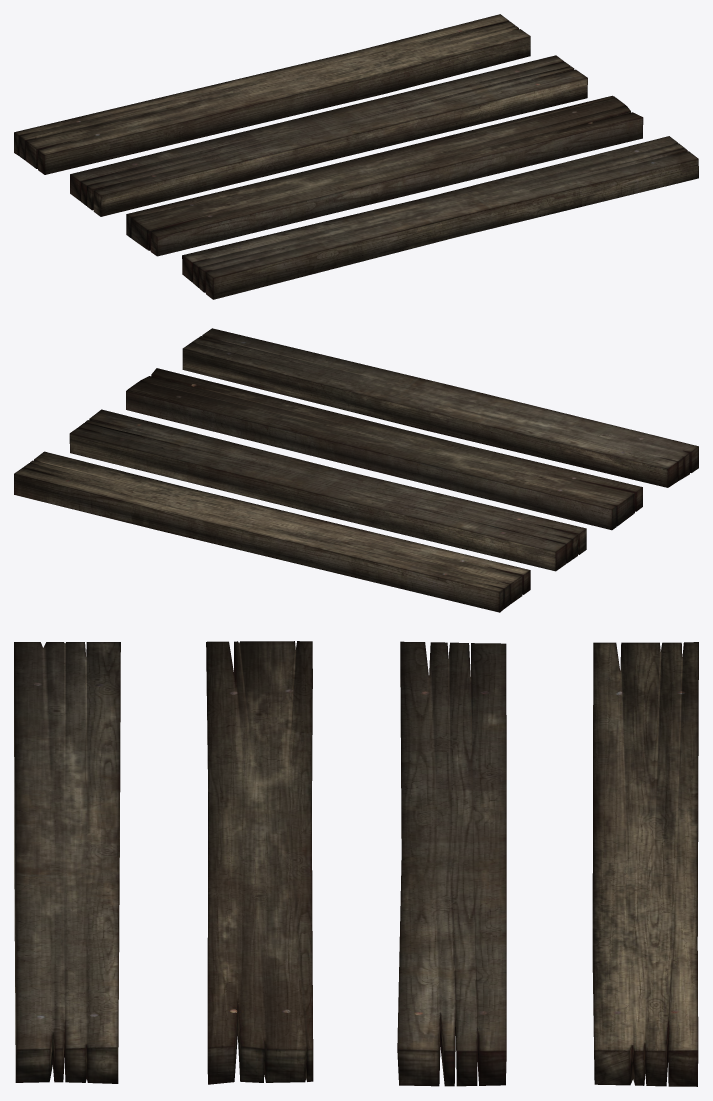
File: Planks.fbx
The picture shows the model from 3 angles, top to bottom: view 1: azimuth 30°, elevation 25°; view 2: azimuth 150°, elevation 25°; view 3: azimuth 270°, elevation 25°; orthographic projection. The views are drawn at different scales.
Parts seen in each view (by area): view 1: Planche_low.006, Planche_low.007, Planche_low.005, Planche_low; view 2: Planche_low.006, Planche_low, Planche_low.007, Planche_low.005; view 3: Planche_low.006, Planche_low.007, Planche_low, Planche_low.005.
Boxes of the visible parts, bbox=[...] form: Planche_low.006: bbox=[70, 55, 587, 216]; Planche_low.007: bbox=[14, 14, 530, 174]; Planche_low.005: bbox=[126, 95, 643, 256]; Planche_low: bbox=[182, 136, 698, 299]; Planche_low.006: bbox=[69, 409, 586, 571]; Planche_low: bbox=[182, 328, 698, 487]; Planche_low.007: bbox=[14, 451, 530, 612]; Planche_low.005: bbox=[126, 368, 642, 530]; Planche_low.006: bbox=[397, 641, 506, 1086]; Planche_low.007: bbox=[592, 642, 698, 1086]; Planche_low: bbox=[14, 642, 120, 1083]; Planche_low.005: bbox=[206, 641, 313, 1084].
Bounding box in the file's own units: 20042 × 918 × 14193.
